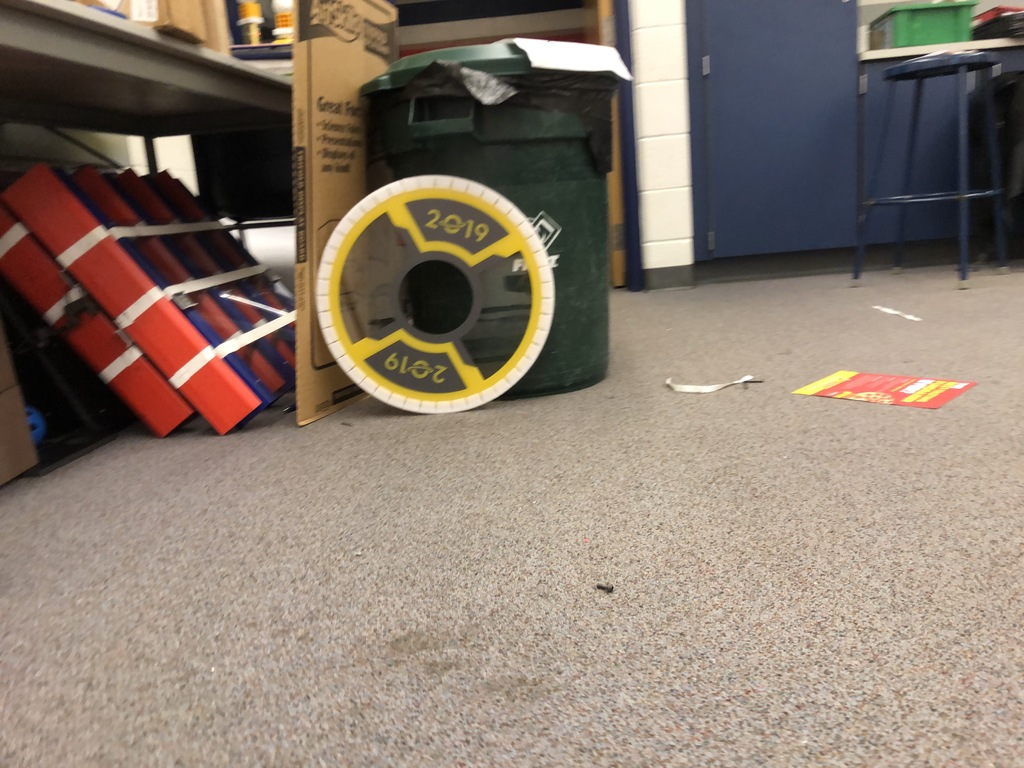hatch_panel: (305, 166, 571, 444)
